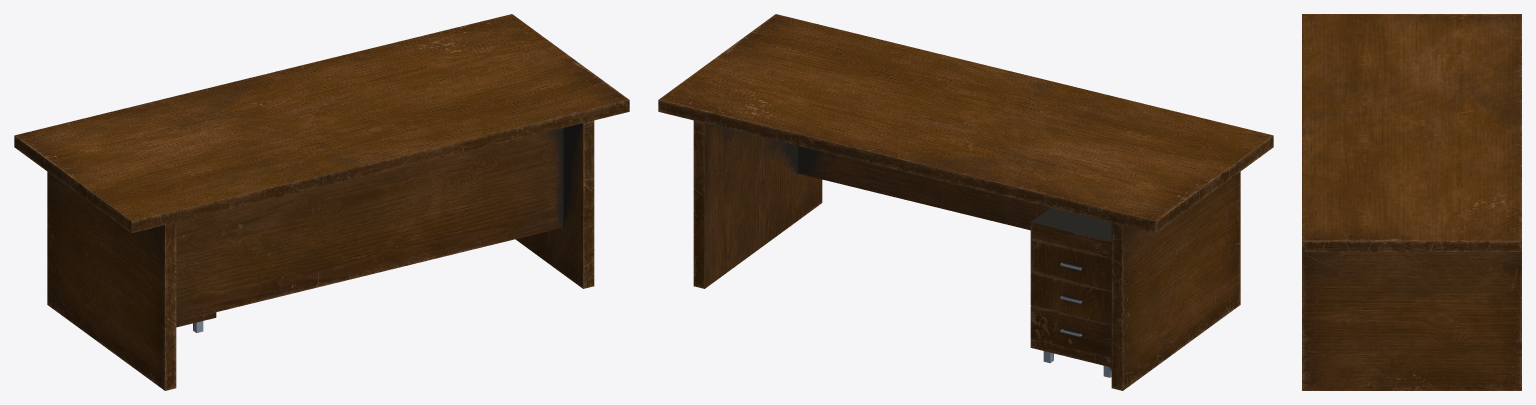
File: bureau.glb
3 views of the same model, side by side, from view 1: azimuth 30°, elevation 25°; view 2: azimuth 150°, elevation 25°; view 3: azimuth 270°, elevation 25° (orthographic). The views are drawn at different scales.
Parts seen in each view (by area): view 1: scene_2__0; view 2: scene_2__0; view 3: scene_2__0.
Boxes of the visible parts, box(x1,y1,x2,y2) form: scene_2__0: box(14, 14, 629, 390); scene_2__0: box(658, 14, 1273, 390); scene_2__0: box(1302, 14, 1521, 390).
Size of the model in its own units: 5.49 by 1.89 by 2.25.
1 material, 1 textured.
